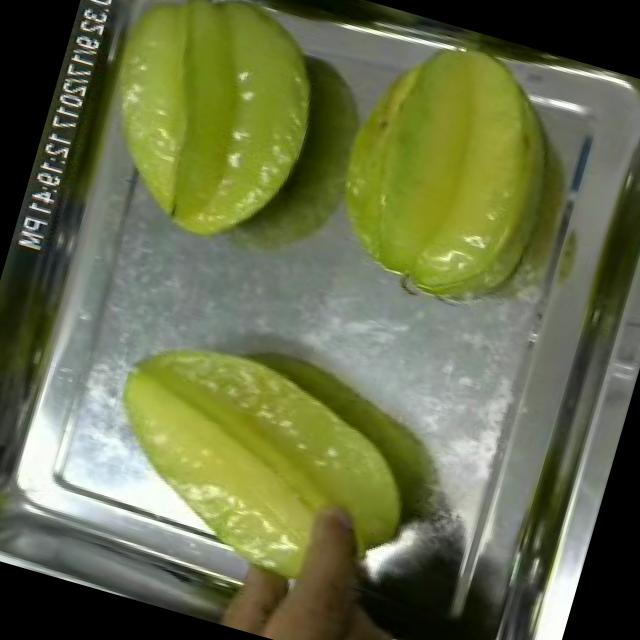fruit: (72, 308, 450, 616), (296, 2, 597, 334), (60, 0, 352, 271)
